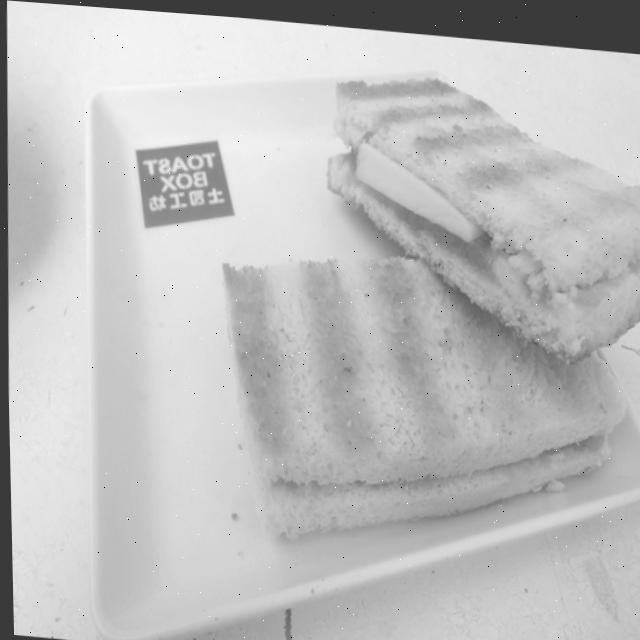面包点心: (68, 14, 640, 640)
